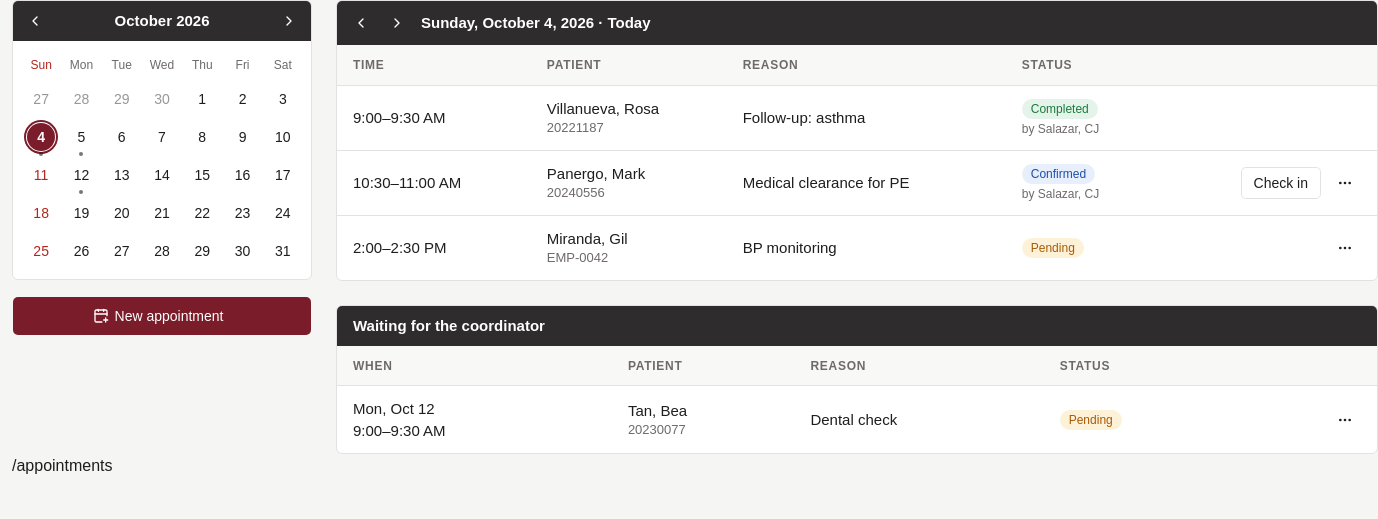
Test: steps through days and keeps the day in the address
The width and height of the screenshot is (1378, 519).
Expected: the heading "Sunday, October 4, 2026 · Today" is shown, [421,12,650,34]
Click the button named "Next day": (397,23) [381,7,413,39]
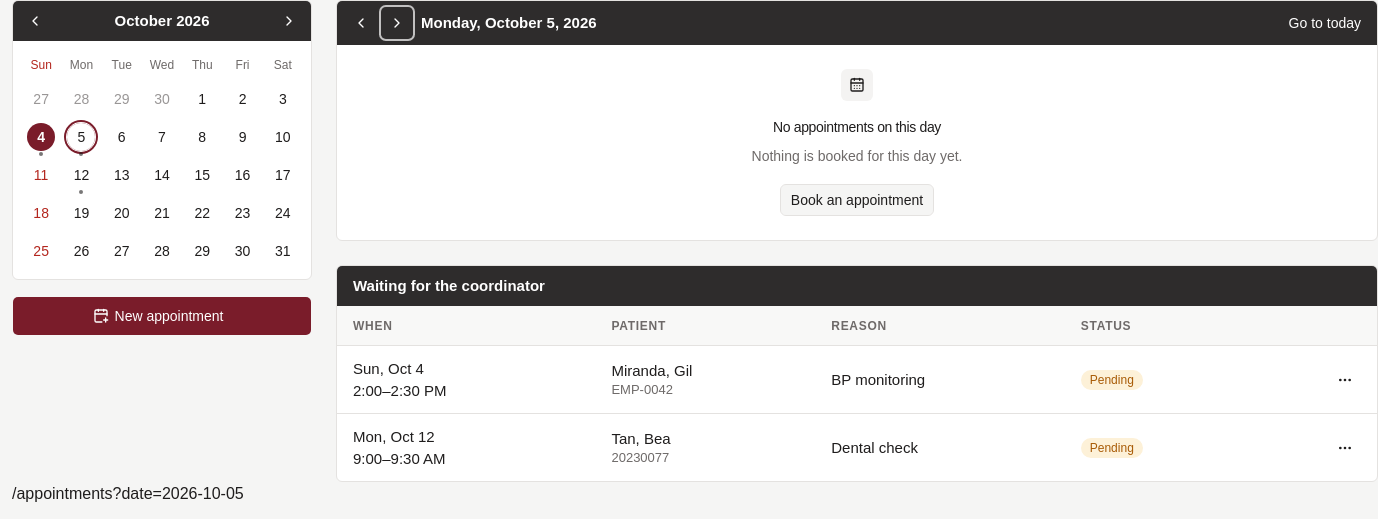
Expected: the text with test id "address" reads "/appointments?date=2026-10-05", [12,485,244,502]
Expected: the text "No appointments on this day" is shown, [773,117,941,137]
Click the button "Go to today": (1325,23) [1281,13,1369,33]
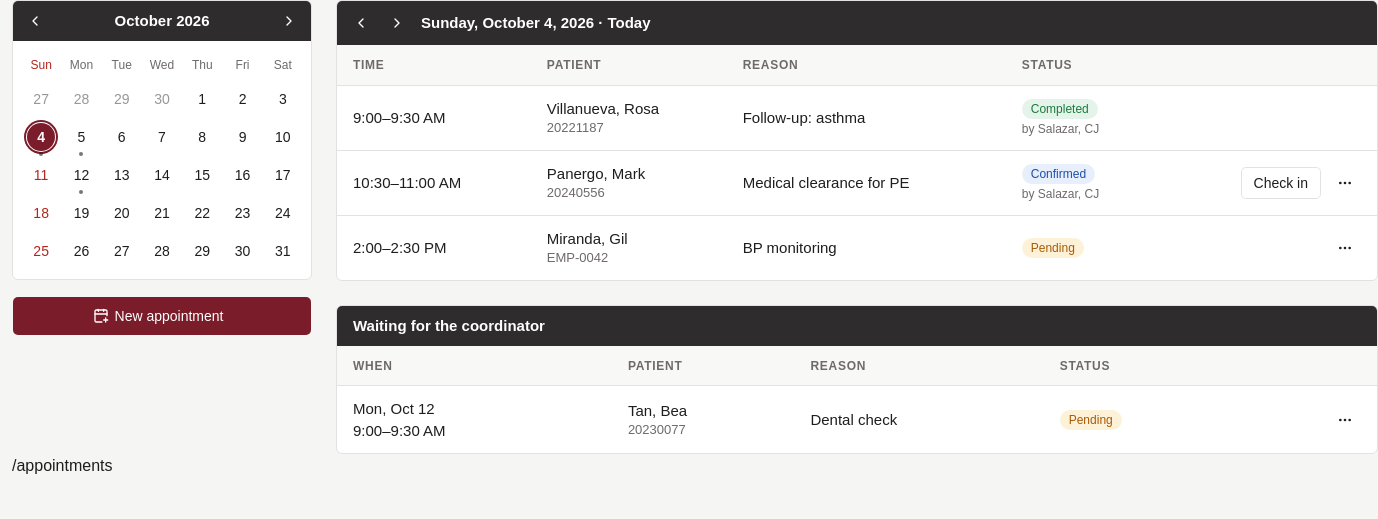
Expected: the text with test id "address" reads "/appointments", [12,457,112,474]
